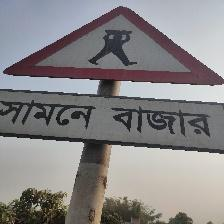Market-in-front: (1, 5, 222, 153)
